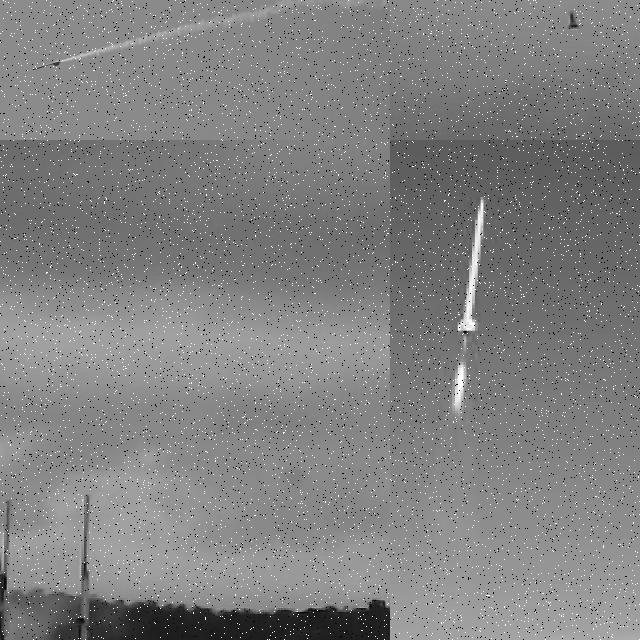Rocket: (455, 188, 488, 342), (0, 551, 8, 640), (566, 6, 580, 32), (32, 59, 62, 70)
